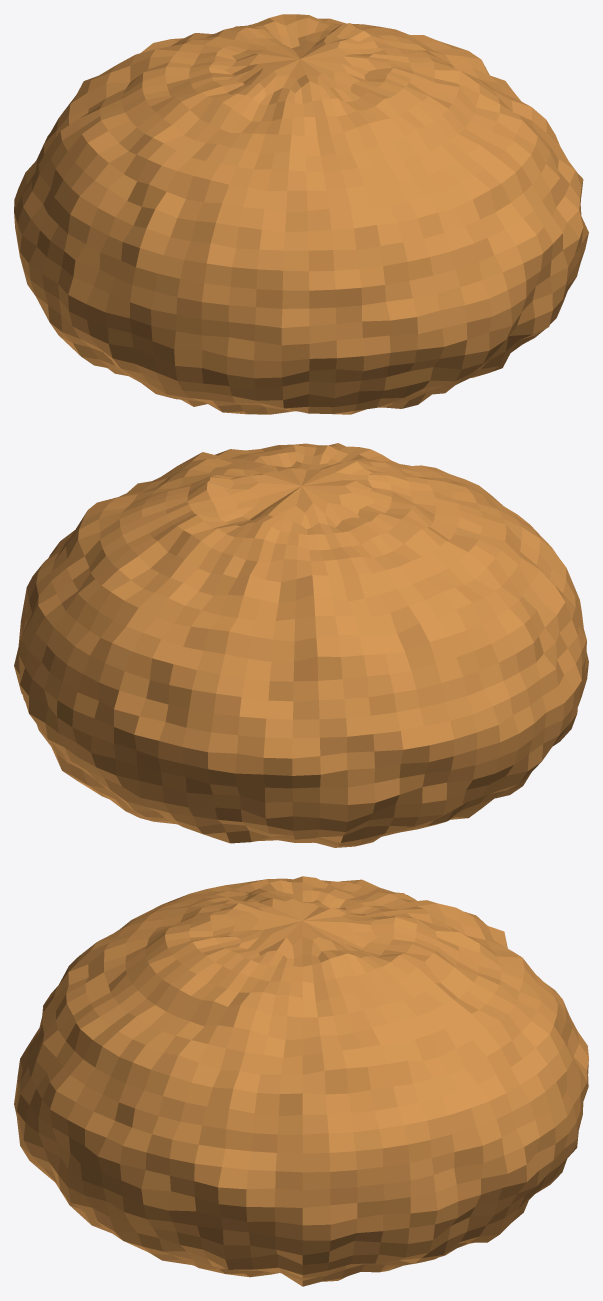
File: Vetkoek.fbx
3 views of the same model, one above another, from view 1: azimuth 30°, elevation 25°; view 2: azimuth 150°, elevation 25°; view 3: azimuth 270°, elevation 25° (orthographic).
Parts seen in each view (by area): view 1: Vetkoek; view 2: Vetkoek; view 3: Vetkoek.
Boxes of the visible parts, x1,y1,x2,y2 form: Vetkoek: [14, 14, 588, 414]; Vetkoek: [14, 443, 588, 847]; Vetkoek: [14, 876, 588, 1286].
Bounding box in the file's own units: 3 × 1.82 × 3.02.
